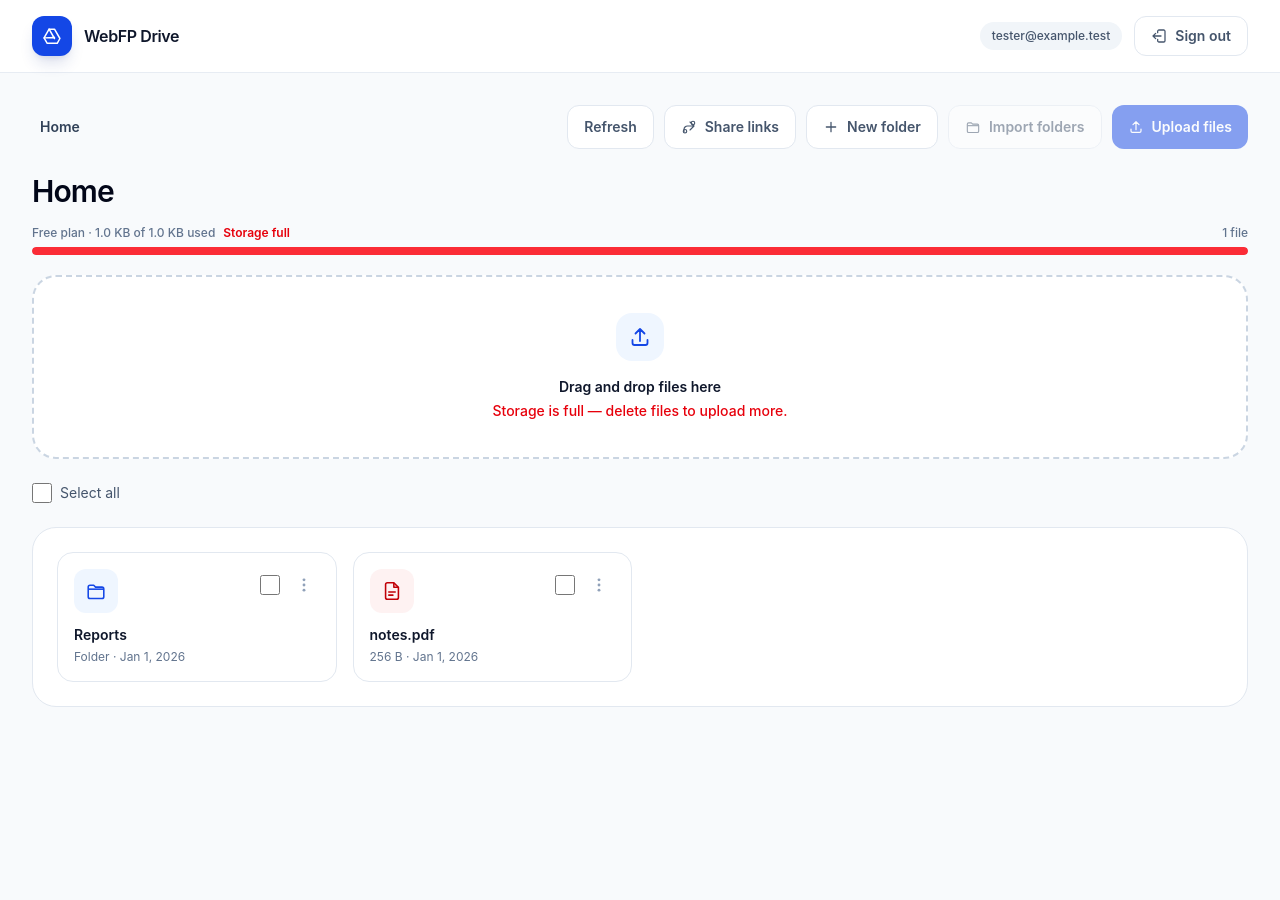
drive actions › deletes selected files and nested folders even when storage is full
Click the checkbox labelled "Select all": click(42, 493) [32,483,52,503]
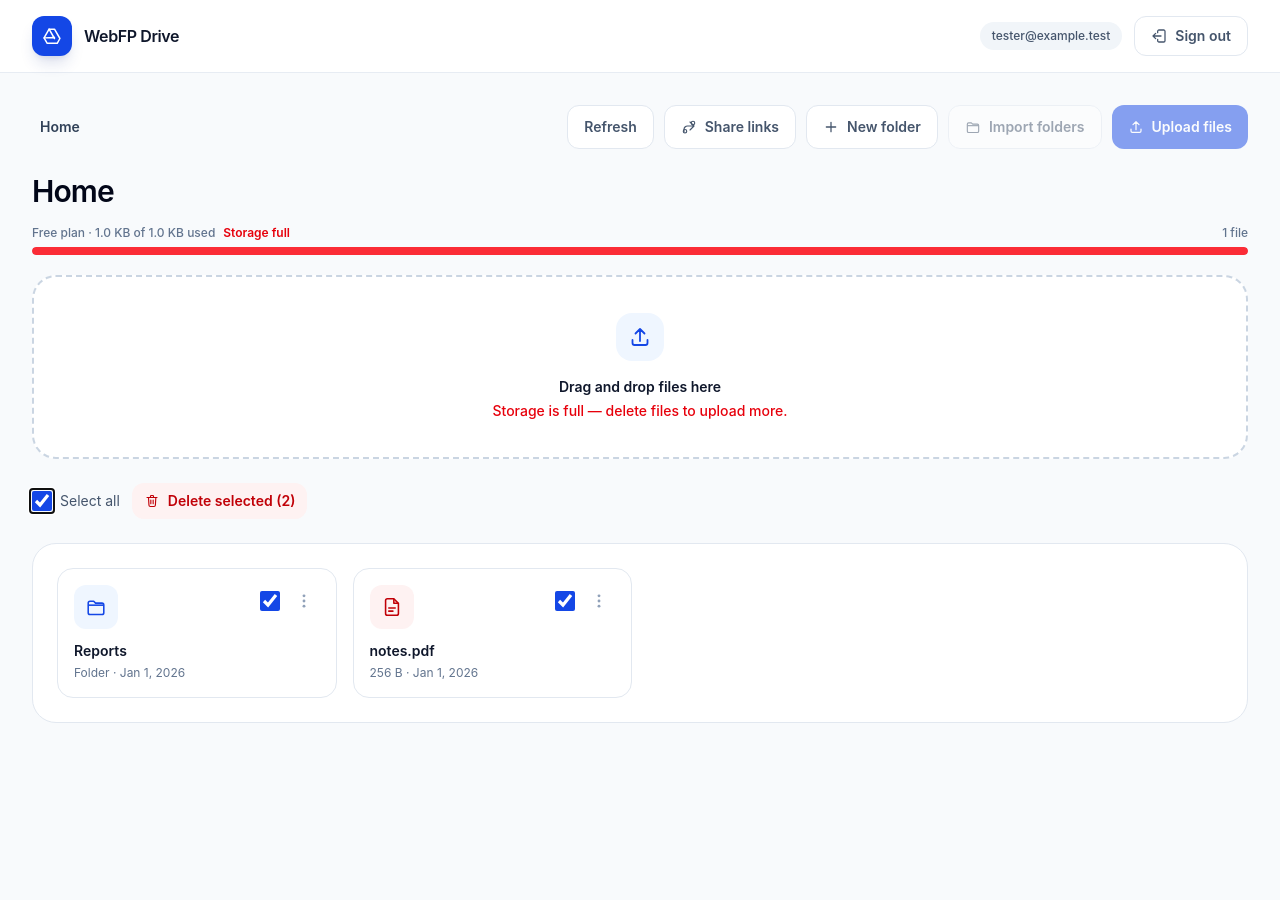
Click the button "Delete selected (2)": click(220, 501) [132,483,308,519]
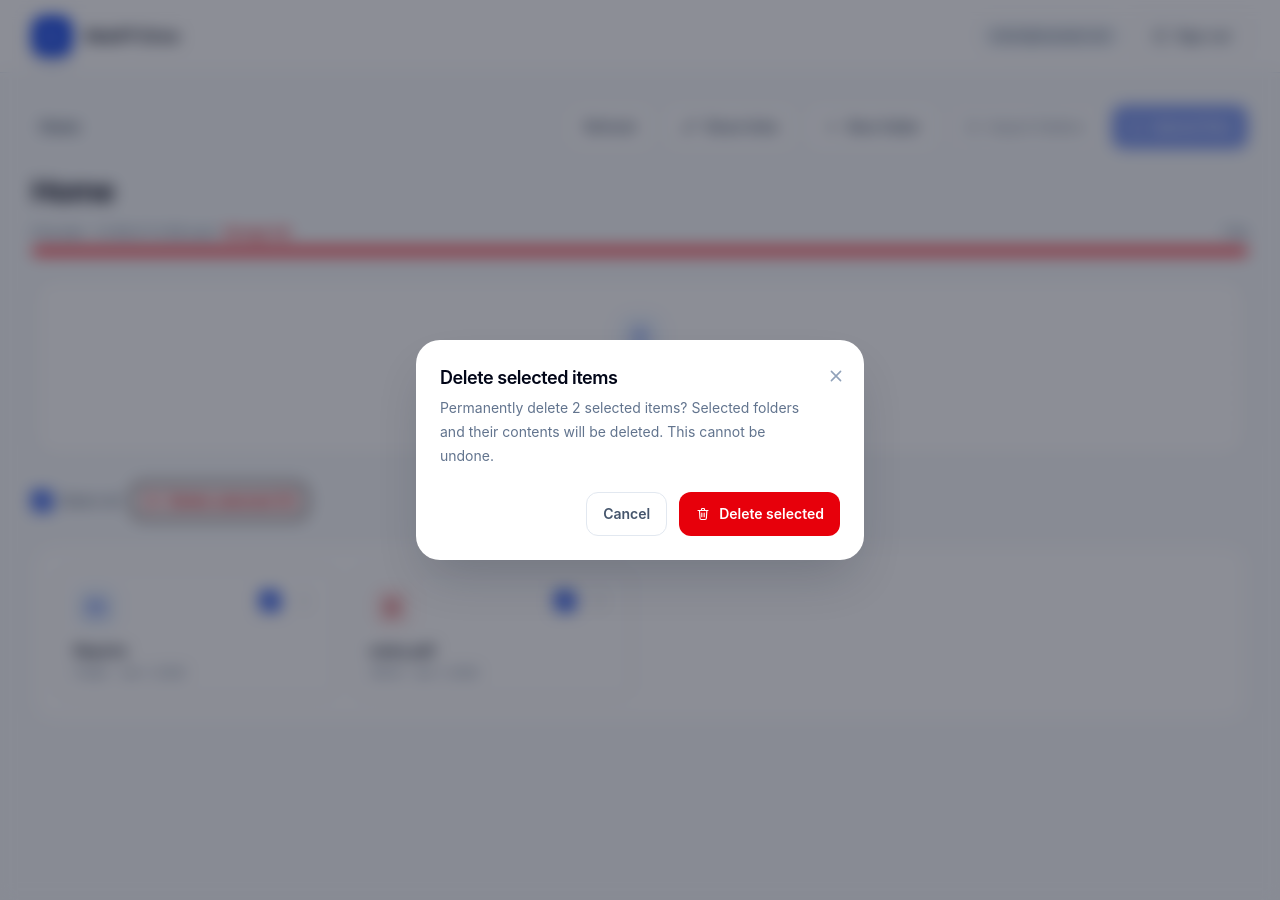
Click the button "Delete selected": click(760, 514) [679,492,840,536]
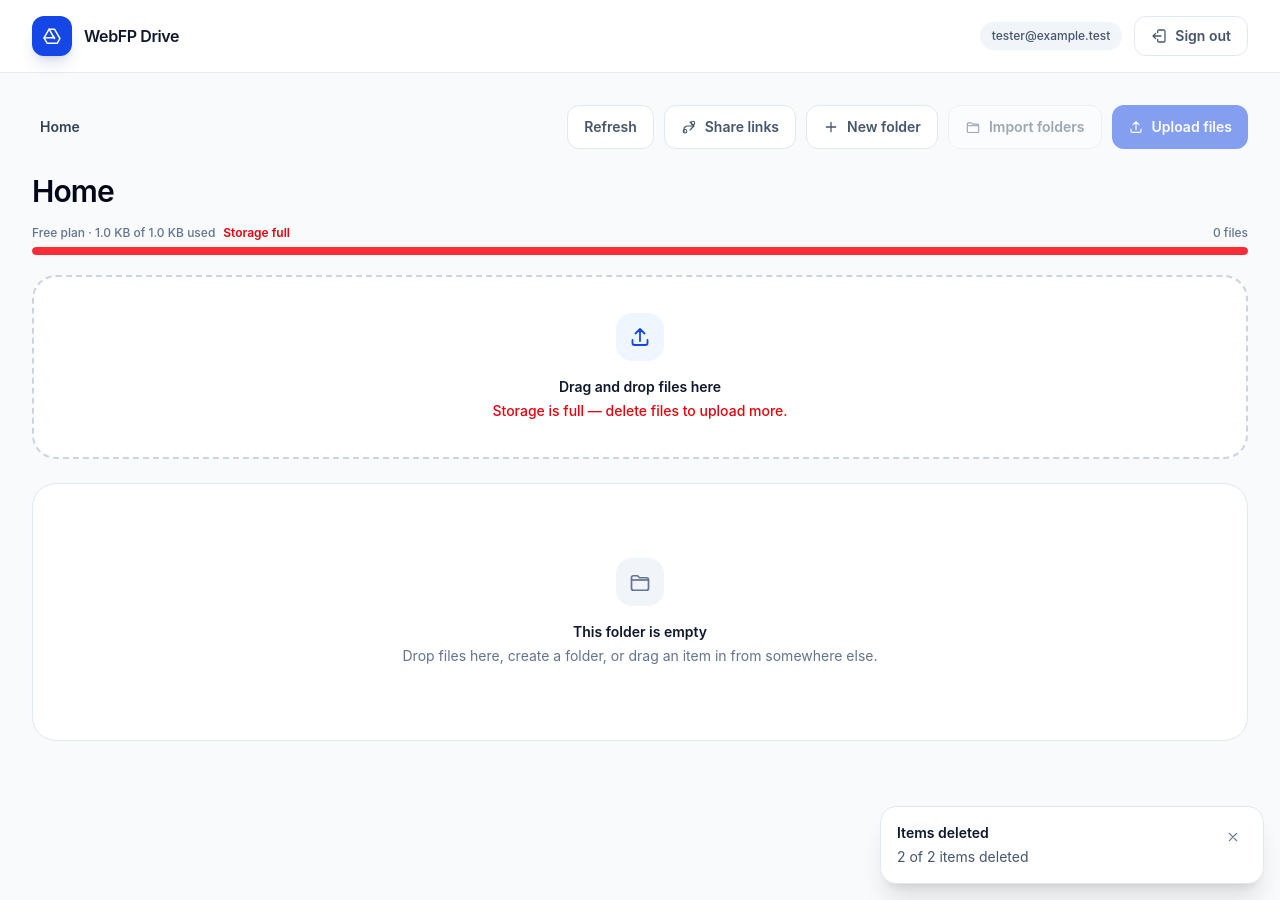
Now the text "This folder is empty" is shown, box [573,623,707,640]
Now the text "2 of 2 items deleted" is shown, box [897,847,1028,867]
Now the dialog is gone
